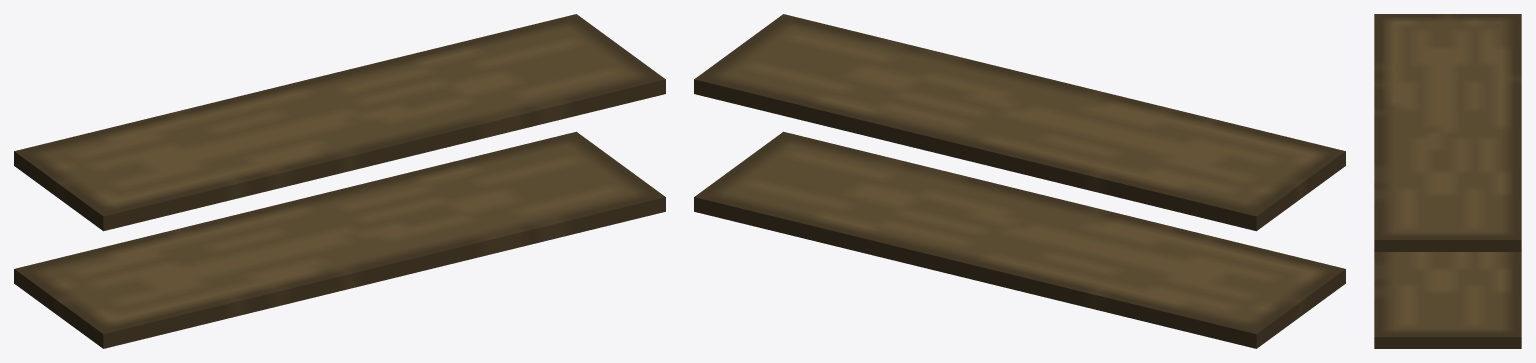
The model's file is Storage_FloatingShelfA-1_00.fbx.
3 views of the same model, side by side, from view 1: azimuth 30°, elevation 25°; view 2: azimuth 150°, elevation 25°; view 3: azimuth 270°, elevation 25° (orthographic). The views are drawn at different scales.
Parts seen in each view (by area): view 1: Storage_FloatingShelfA-1_00; view 2: Storage_FloatingShelfA-1_00; view 3: Storage_FloatingShelfA-1_00.
Part boxes in pixels (x1=…): Storage_FloatingShelfA-1_00: x1=14, y1=14, x2=665, y2=348; Storage_FloatingShelfA-1_00: x1=694, y1=14, x2=1345, y2=348; Storage_FloatingShelfA-1_00: x1=1374, y1=14, x2=1521, y2=348.
Size of the model in its own units: 200 by 45 by 55.
